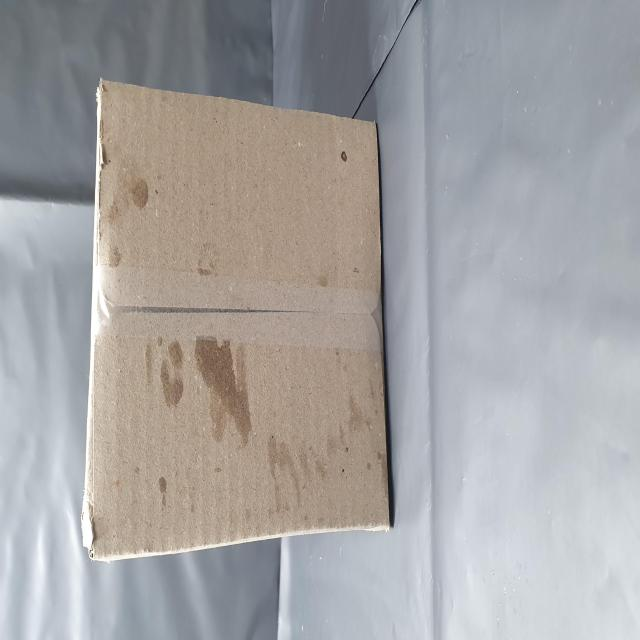wet: (107, 268, 171, 459)
